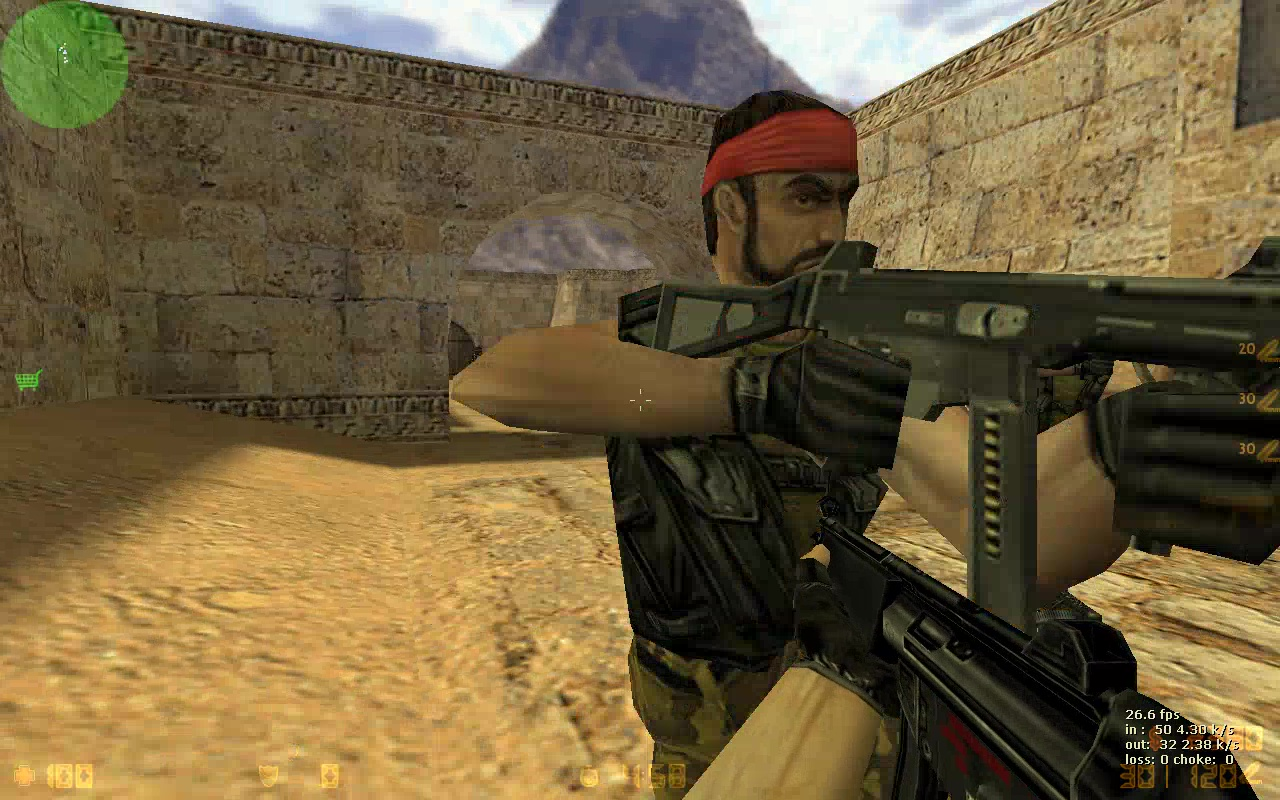terr1: (459, 80, 1142, 793)
